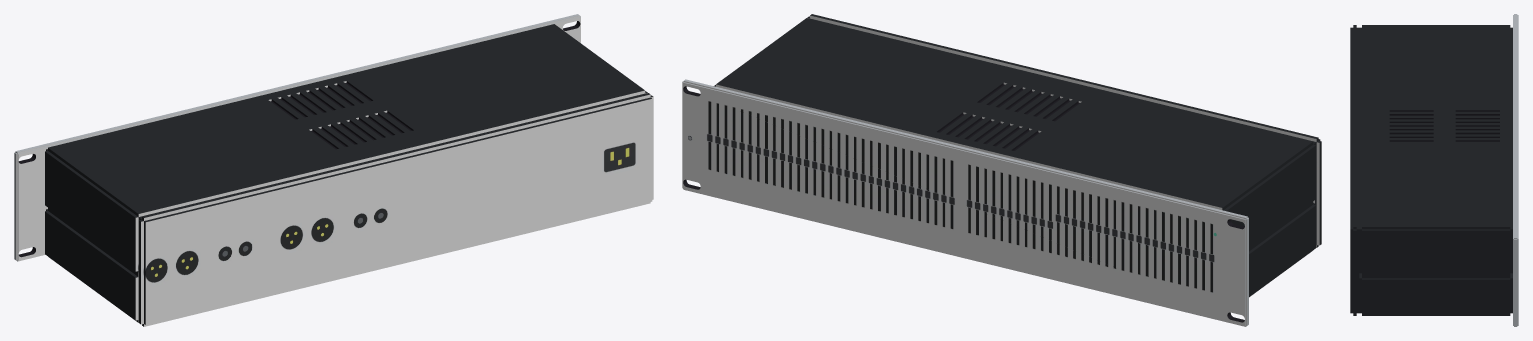
File: dbx-231s.glb
3 renders of one model, left to right at view 1: azimuth 30°, elevation 25°; view 2: azimuth 150°, elevation 25°; view 3: azimuth 270°, elevation 25°, orthographic. The views are drawn at different scales.
Visible parts, largest first — view 1: dbx-231s-body; view 2: dbx-231s-body; view 3: dbx-231s-body.
Boxes of the visible parts, x1=… form: dbx-231s-body: x1=14, y1=14, x2=653, y2=326; dbx-231s-body: x1=682, y1=14, x2=1321, y2=326; dbx-231s-body: x1=1350, y1=14, x2=1518, y2=326.
Bounding box in the file's own units: 0.4826 × 0.089 × 0.1524.
1 material, 1 textured.
